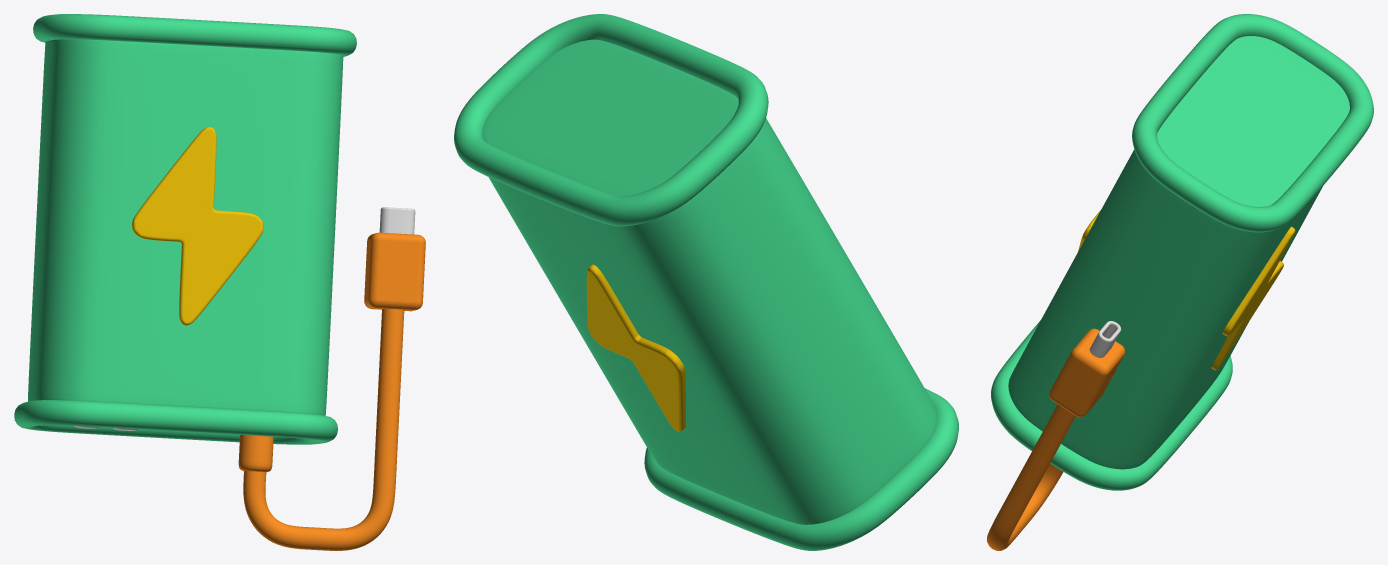
File: powerbank-3d-icon-776488032908.glb
3 renders of one model, left to right at view 1: azimuth 30°, elevation 25°; view 2: azimuth 150°, elevation 25°; view 3: azimuth 270°, elevation 25°, orthographic. The views are drawn at different scales.
Visible parts, largest first — view 1: Battery Storage, Cable, Electrical Symbol, USB & Indicator; view 2: Battery Storage, Electrical Symbol; view 3: Battery Storage, Cable, Electrical Symbol, USB & Indicator.
Boxes of the visible parts, bbox=[...] form: Battery Storage: bbox=[14, 14, 356, 444]; Cable: bbox=[238, 232, 425, 550]; Electrical Symbol: bbox=[132, 126, 263, 325]; USB & Indicator: bbox=[74, 207, 415, 430]; Battery Storage: bbox=[454, 14, 958, 550]; Electrical Symbol: bbox=[586, 264, 685, 431]; Battery Storage: bbox=[991, 14, 1373, 490]; Cable: bbox=[987, 328, 1124, 550]; Electrical Symbol: bbox=[1078, 210, 1295, 370]; USB & Indicator: bbox=[1089, 321, 1121, 357].
Bounding box in the file's own units: 2.74 × 3.35 × 2.52.
